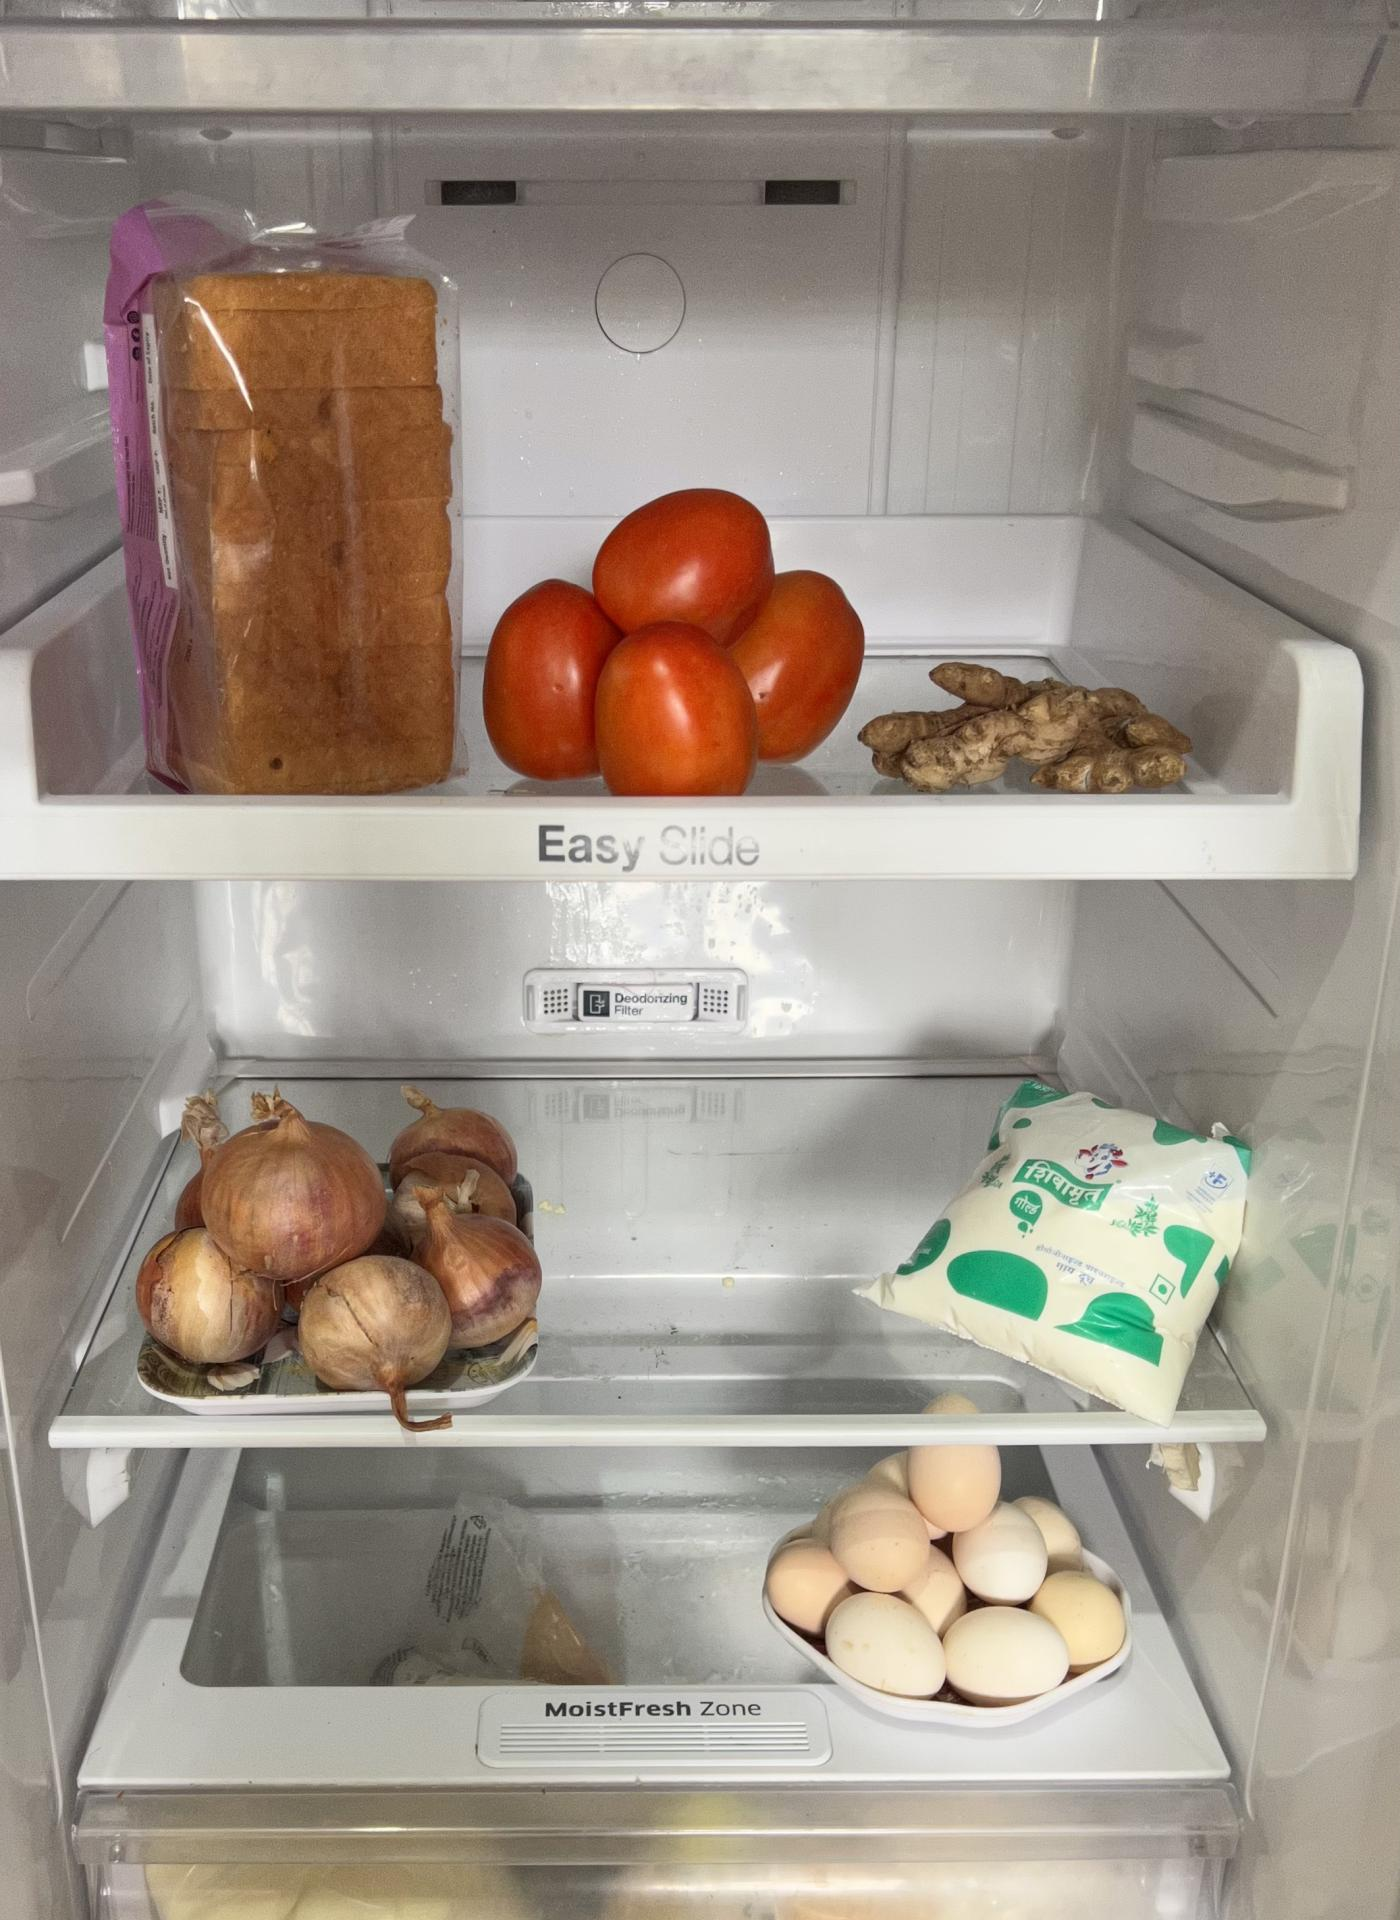bread: (78, 195, 471, 793)
egg: (753, 1447, 1120, 1710)
ginger: (866, 651, 1196, 800)
milk: (892, 1070, 1257, 1394)
onion: (124, 1078, 538, 1388)
tomato: (485, 487, 857, 793)
